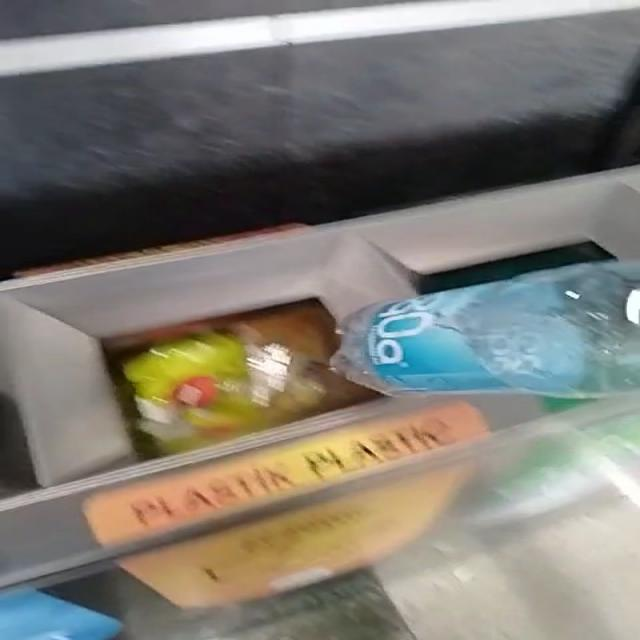plastic: (332, 260, 640, 398)
